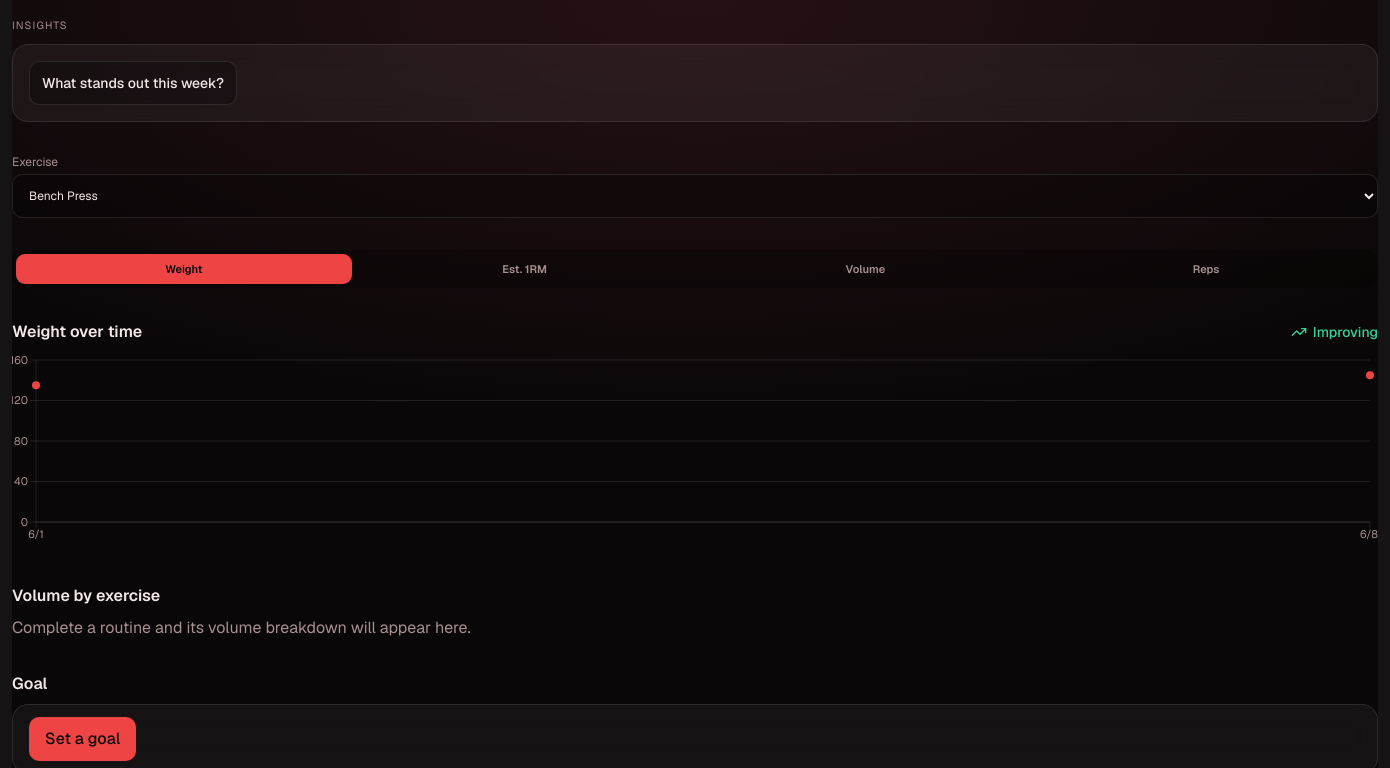
Test: ProgressView metric switcher › switches to the volume chart and persists the choice
Click the tab "Volume" at (865, 269), box [698,254,1033,284]
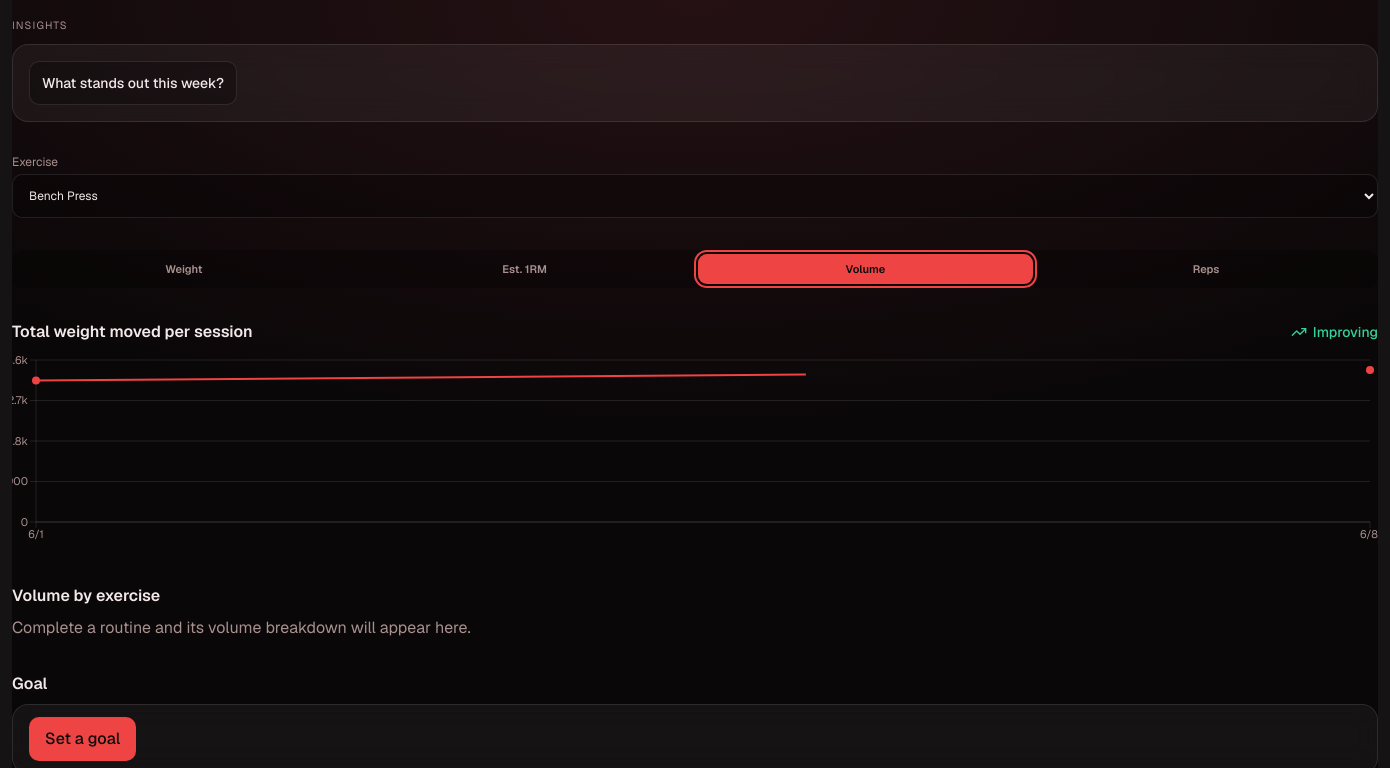
Now the heading "Total weight moved per session" is shown, box [12,320,253,344]
